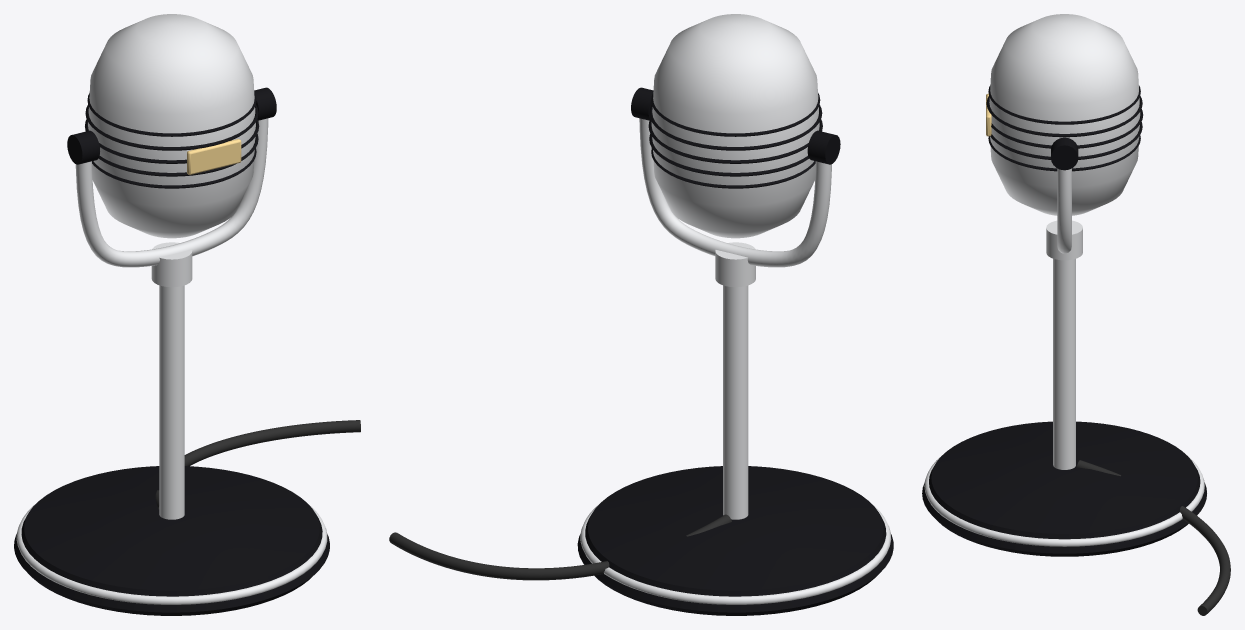
The model's file is mic.glb.
The picture shows the model from 3 angles, left to right: view 1: azimuth 30°, elevation 25°; view 2: azimuth 150°, elevation 25°; view 3: azimuth 270°, elevation 25°; orthographic projection. The views are drawn at different scales.
Visible parts, largest first — view 1: base, caps, stem, yoke, baser, cable, collar, badge, knob, grill.006, grill.007, grill.003 (+3 smaller); view 2: base, caps, stem, yoke, baser, cable, collar, knob, grill.006, grill.005, grill.007, grill.004; view 3: base, caps, stem, baser, cable, yoke, collar, knob.001, grill.006, grill.007, grill.005, grill.004 (+1 smaller).
Part boxes in pixels (x1,y1,x2,y2): base: [14, 466, 329, 615]; caps: [88, 14, 255, 238]; stem: [159, 285, 184, 519]; yoke: [75, 118, 268, 267]; baser: [16, 505, 327, 604]; cable: [155, 420, 360, 509]; collar: [151, 242, 192, 287]; badge: [187, 139, 241, 174]; knob: [67, 130, 99, 164]; grill.006: [85, 105, 258, 150]; grill.007: [87, 93, 256, 136]; grill.003: [92, 148, 256, 188]; base: [577, 466, 893, 615]; caps: [651, 14, 819, 238]; stem: [723, 285, 748, 519]; yoke: [639, 118, 831, 267]; baser: [580, 504, 891, 604]; cable: [389, 514, 731, 580]; collar: [715, 242, 755, 287]; knob: [807, 130, 840, 164]; grill.006: [649, 104, 822, 150]; grill.005: [648, 119, 822, 163]; grill.007: [651, 93, 820, 136]; grill.004: [649, 133, 808, 176]; base: [922, 421, 1206, 556]; caps: [989, 14, 1140, 215]; stem: [1053, 258, 1075, 469]; baser: [924, 457, 1204, 546]; cable: [1077, 460, 1230, 615]; yoke: [1057, 168, 1071, 253]; collar: [1046, 220, 1082, 260]; knob.001: [1051, 137, 1078, 170]; grill.006: [986, 96, 1142, 137]; grill.007: [988, 85, 1140, 124]; grill.005: [991, 109, 1143, 148]; grill.004: [990, 122, 1142, 159].
Bounding box in the file's own units: 0.9151 × 1.14 × 0.6716.
